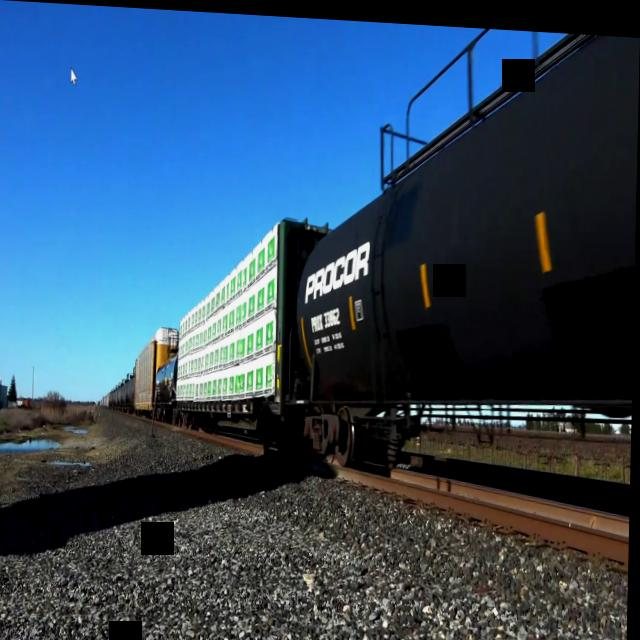autorack: (135, 320, 180, 414)
cargo: (178, 210, 281, 406)
flatcar_bulkhead: (176, 202, 315, 431)
tank: (294, 14, 640, 485), (156, 345, 180, 422)
